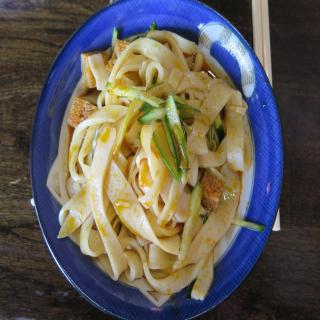Pasta: (60, 26, 256, 295)
